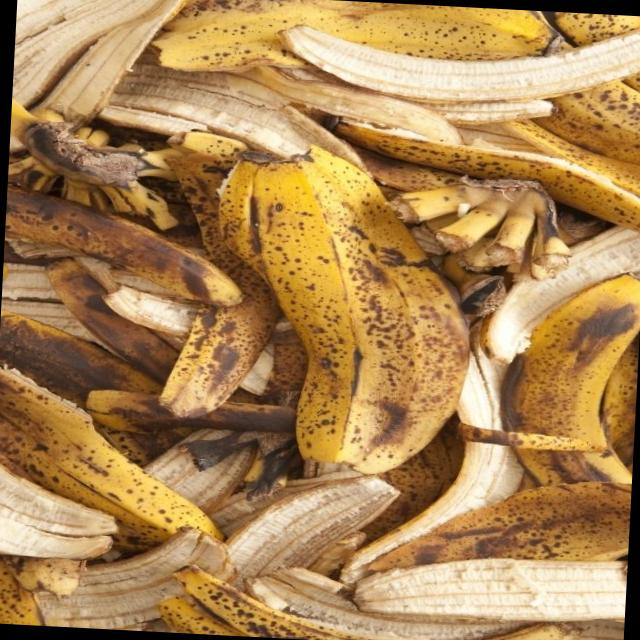banana_peel: (168, 121, 484, 494), (513, 232, 638, 525)
